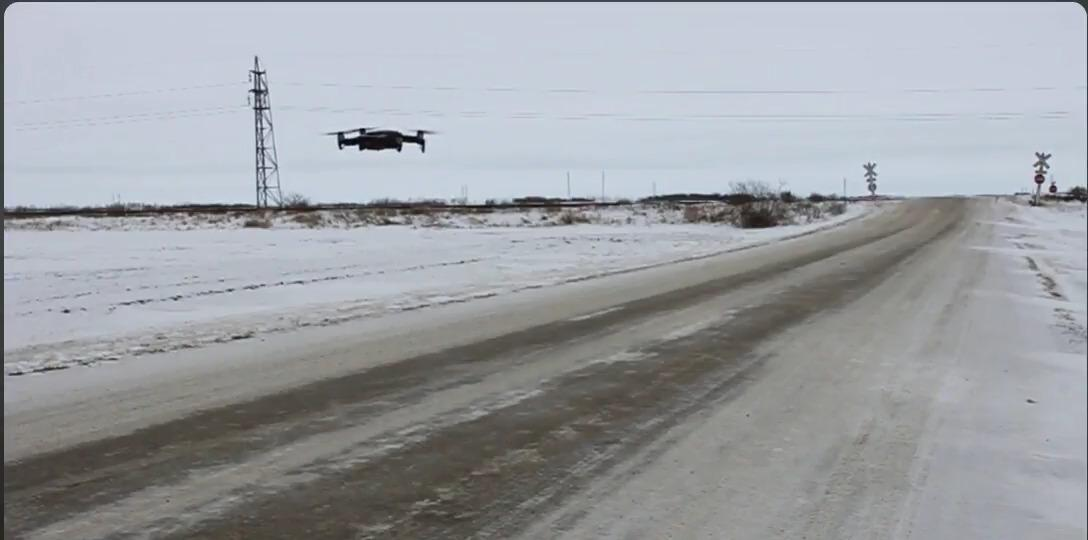dr: (308, 111, 448, 183)
